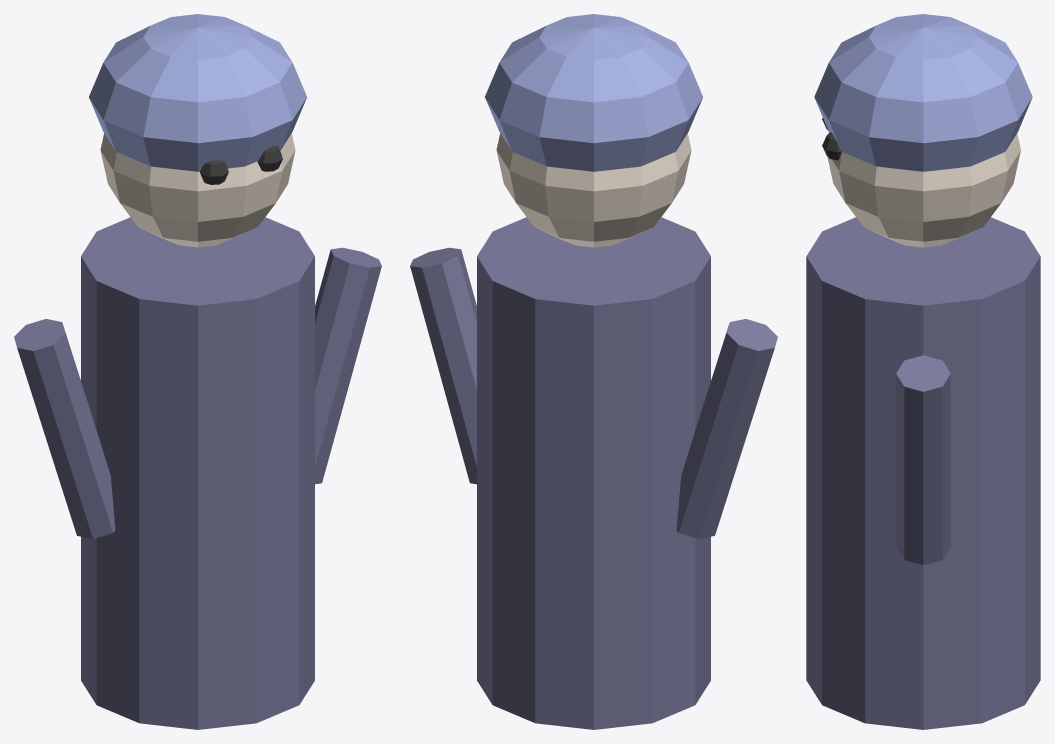
File: hero_haydn.glb
3 views of the same model, side by side, from view 1: azimuth 30°, elevation 25°; view 2: azimuth 150°, elevation 25°; view 3: azimuth 270°, elevation 25° (orthographic).
Visible parts, largest first — view 1: hero_haydn_Body, hero_haydn_Wig, hero_haydn_Head, hero_haydn_Arm, hero_haydn_Arm.001; view 2: hero_haydn_Body, hero_haydn_Wig, hero_haydn_Head, hero_haydn_Arm, hero_haydn_Arm.001; view 3: hero_haydn_Body, hero_haydn_Wig, hero_haydn_Head, hero_haydn_Arm.001.
Boxes of the visible parts, <box> form: hero_haydn_Body: <box>81,217,314,729</box>; hero_haydn_Wig: <box>89,14,306,171</box>; hero_haydn_Head: <box>100,133,295,247</box>; hero_haydn_Arm: <box>14,319,115,538</box>; hero_haydn_Arm.001: <box>315,247,381,484</box>; hero_haydn_Body: <box>477,217,710,729</box>; hero_haydn_Wig: <box>485,14,702,171</box>; hero_haydn_Head: <box>496,133,691,247</box>; hero_haydn_Arm: <box>676,319,777,538</box>; hero_haydn_Arm.001: <box>410,247,476,484</box>; hero_haydn_Body: <box>806,217,1040,729</box>; hero_haydn_Wig: <box>814,14,1032,171</box>; hero_haydn_Head: <box>827,133,1020,247</box>; hero_haydn_Arm.001: <box>896,355,950,565</box>.
Bounding box in the file's own units: 1.07 × 1.85 × 0.6.
